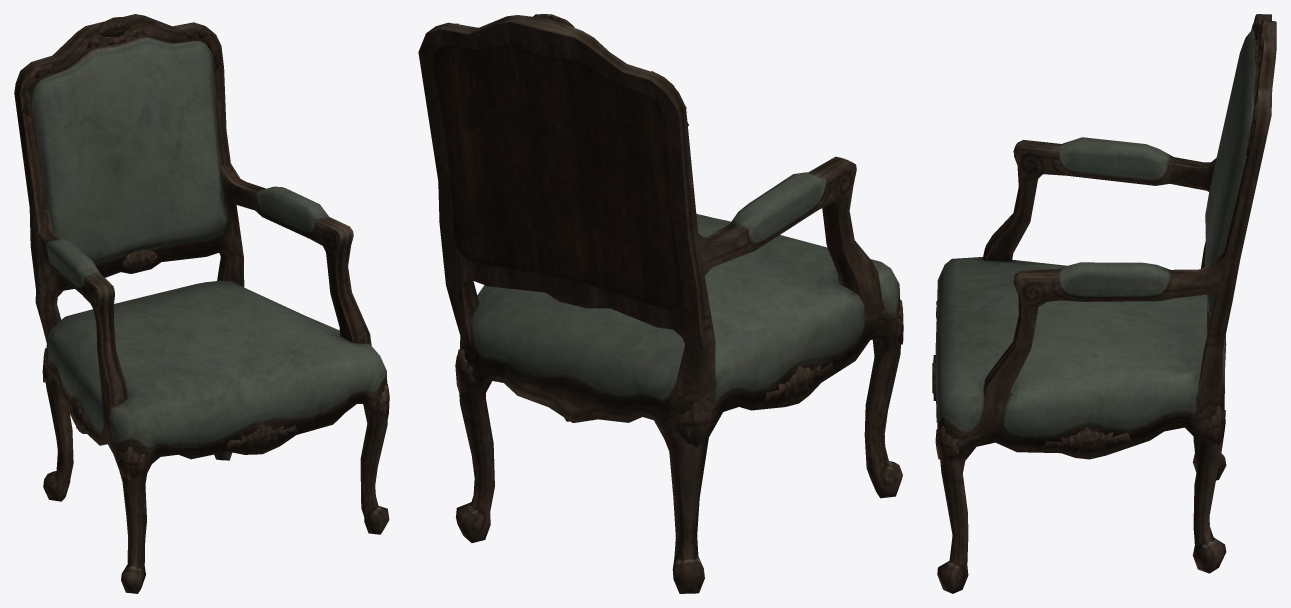
The model's file is armchair_green.glb.
3 renders of one model, left to right at view 1: azimuth 30°, elevation 25°; view 2: azimuth 150°, elevation 25°; view 3: azimuth 270°, elevation 25°, orthographic. The views are drawn at different scales.
Parts seen in each view (by area): view 1: GreenChair_01; view 2: GreenChair_01; view 3: GreenChair_01.
Part boxes in pixels (box(x1,y1,x2,y2)): GreenChair_01: box(14, 14, 389, 593); GreenChair_01: box(418, 14, 903, 593); GreenChair_01: box(932, 14, 1276, 593).
Size of the model in its own units: 0.6723 by 1.06 by 0.6644.
1 material, 1 textured.
